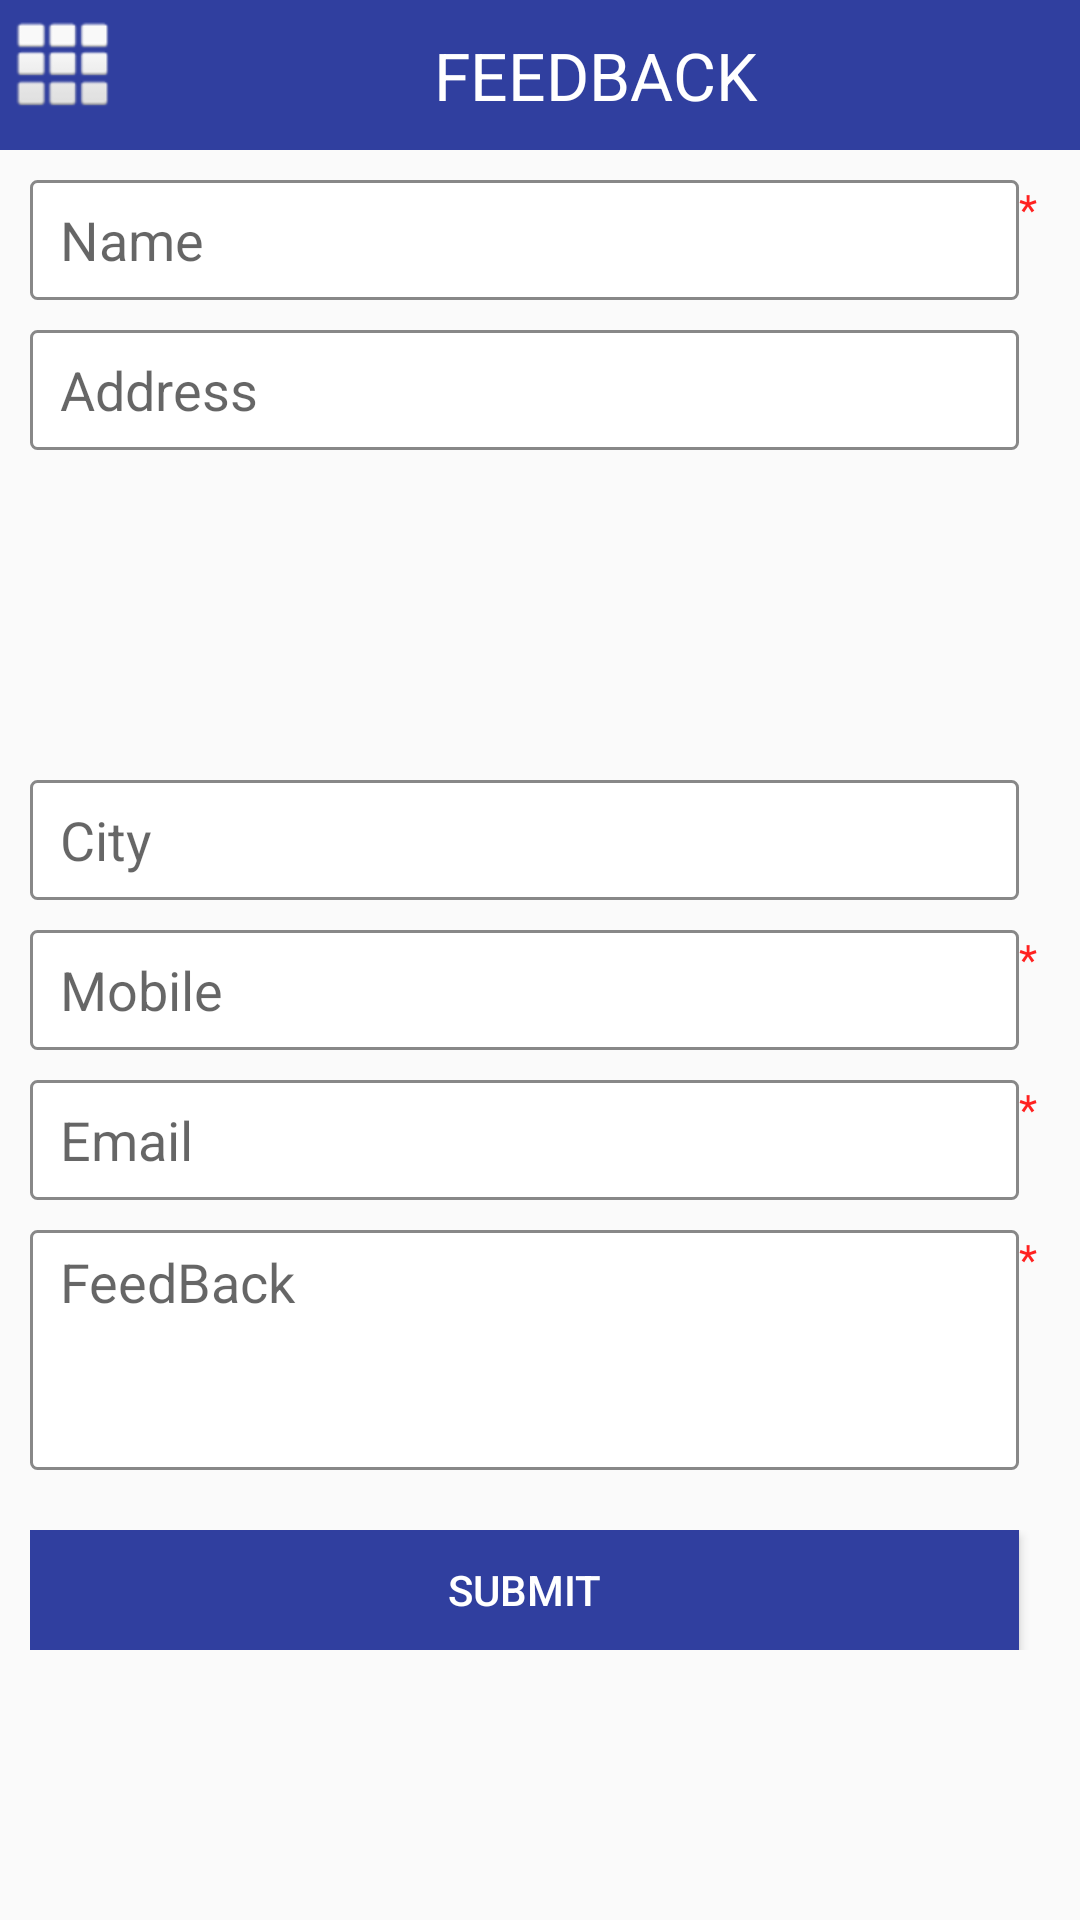

Icons on this 1080×1920 Android screen, each with the point to tap as (x,y):
dialer: (62,64)
